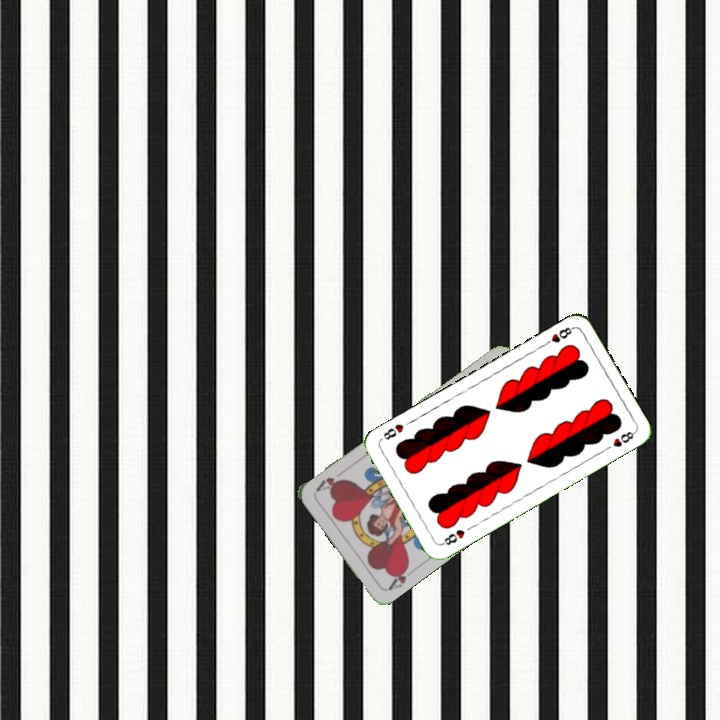H8: (539, 323, 576, 349), (437, 525, 468, 548)
HA: (383, 560, 412, 593)
